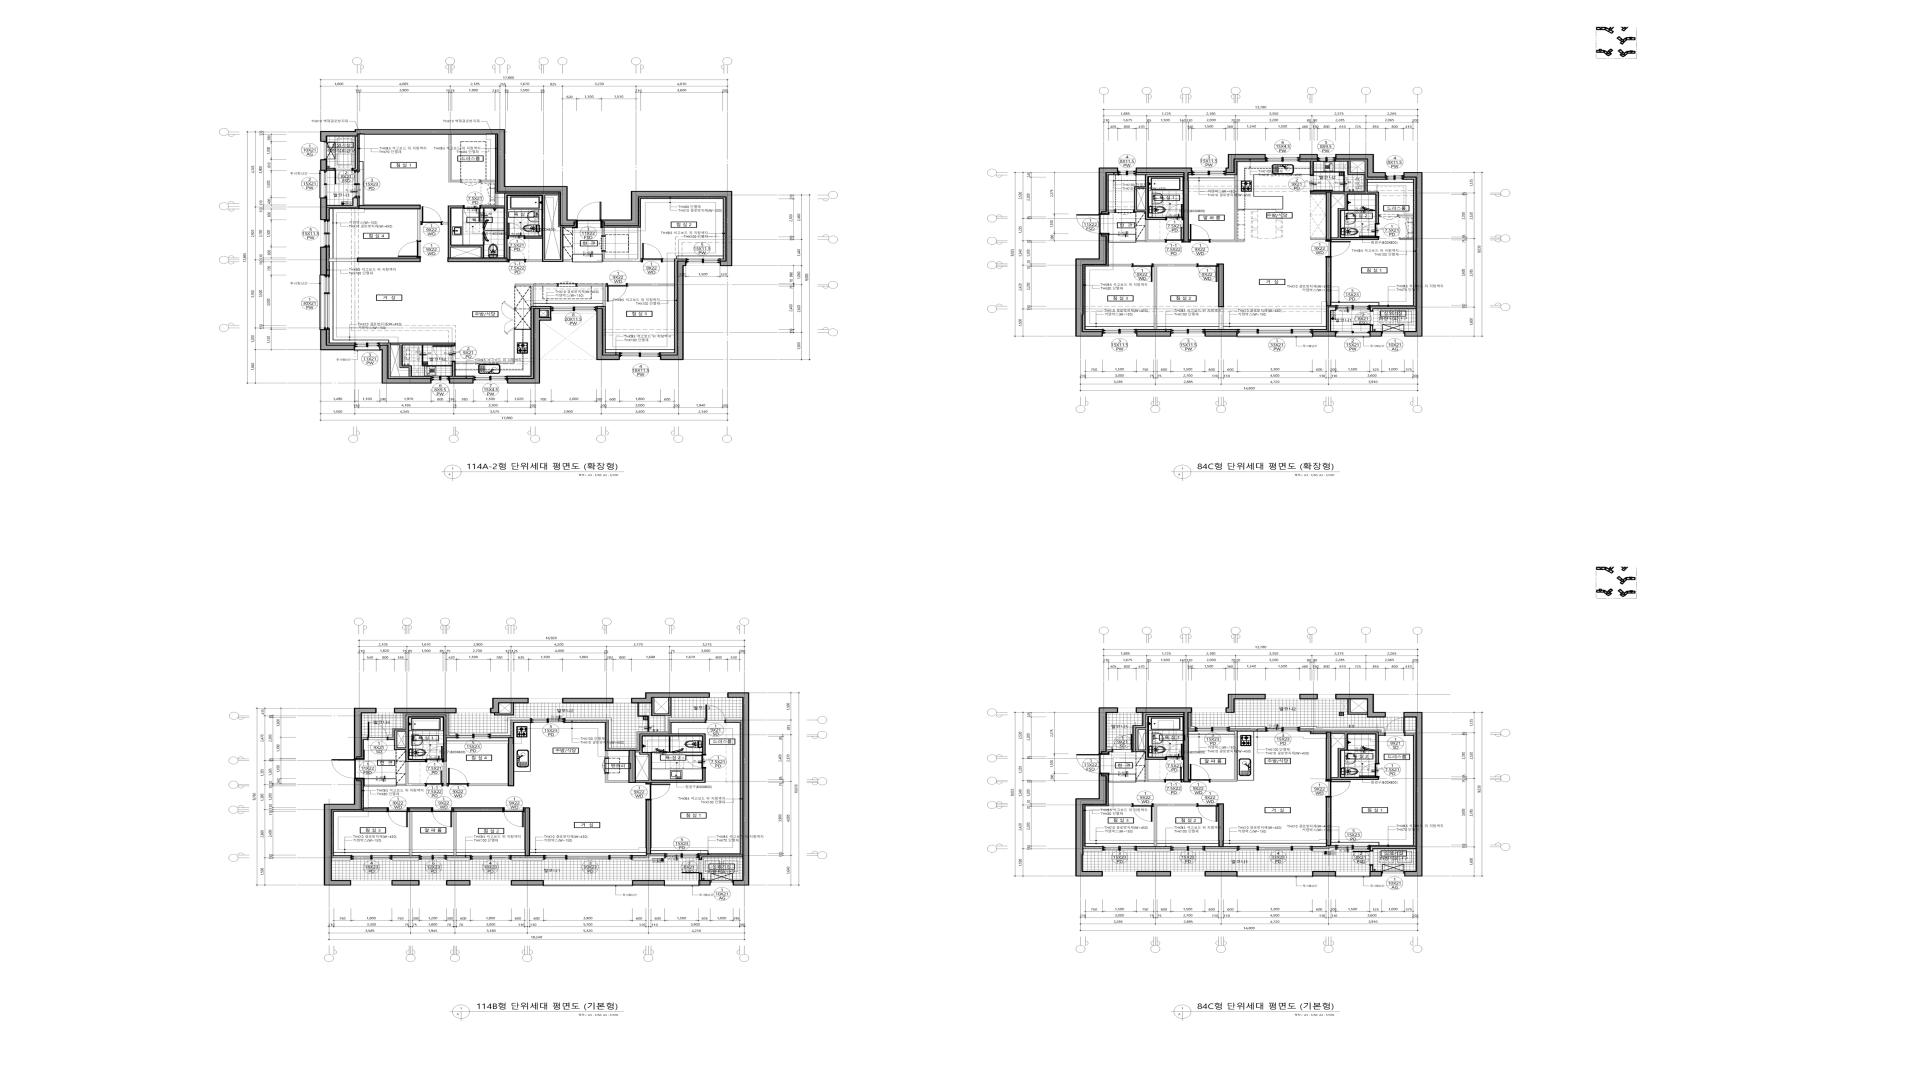door: (1076, 754, 1110, 774), (1076, 214, 1110, 234), (331, 759, 365, 779), (576, 202, 602, 228), (1325, 780, 1351, 798), (431, 807, 453, 828), (1326, 240, 1351, 258), (645, 783, 671, 800), (641, 243, 663, 263), (387, 807, 409, 827), (503, 807, 524, 827), (1132, 803, 1154, 822), (420, 206, 442, 225), (1132, 263, 1154, 282), (1197, 803, 1218, 822), (1112, 734, 1133, 753), (1189, 764, 1210, 783), (1197, 263, 1218, 282), (606, 283, 627, 302), (1189, 224, 1210, 243), (447, 768, 468, 787), (398, 241, 421, 258), (432, 346, 456, 362), (705, 705, 726, 723), (367, 722, 388, 740), (1310, 175, 1333, 191), (1385, 718, 1405, 736), (1353, 311, 1374, 326), (681, 859, 702, 874), (463, 205, 481, 222), (1165, 204, 1183, 221), (425, 771, 444, 787), (686, 754, 706, 769), (1353, 851, 1374, 865), (1359, 763, 1380, 777), (1359, 223, 1380, 237), (426, 746, 443, 763), (1165, 767, 1183, 783), (1165, 744, 1183, 760), (508, 247, 526, 263), (334, 168, 352, 184), (1165, 227, 1183, 243), (508, 223, 525, 239), (1379, 214, 1399, 220), (461, 180, 481, 186), (557, 281, 577, 287), (602, 758, 609, 773), (1115, 210, 1134, 215)
wall: (320, 129, 576, 226), (602, 191, 732, 266), (481, 193, 572, 262), (727, 692, 749, 886), (1136, 707, 1192, 782), (1136, 168, 1192, 243), (324, 779, 362, 886), (394, 715, 447, 786), (636, 734, 706, 783), (507, 308, 551, 384), (1075, 774, 1107, 877), (1075, 234, 1107, 337), (1134, 175, 1183, 242), (1136, 714, 1183, 782), (1404, 712, 1423, 877), (1404, 172, 1423, 337), (1332, 179, 1379, 240), (1154, 264, 1197, 329), (660, 261, 686, 360), (1331, 732, 1379, 780), (1210, 175, 1244, 242), (390, 343, 456, 377), (442, 206, 484, 257), (379, 345, 432, 384), (651, 698, 705, 732), (1154, 804, 1197, 846), (565, 718, 612, 749), (1210, 731, 1237, 782), (602, 228, 641, 262), (596, 308, 620, 360), (1335, 694, 1386, 718), (1335, 154, 1386, 178), (354, 708, 376, 759), (515, 284, 557, 306), (1099, 707, 1118, 754), (1099, 168, 1118, 214), (631, 692, 710, 703), (1226, 694, 1266, 713), (1226, 154, 1266, 173), (320, 329, 355, 350), (491, 718, 530, 736), (577, 284, 606, 306), (448, 135, 461, 182), (1300, 726, 1385, 733), (490, 698, 529, 713), (394, 708, 456, 713), (1348, 699, 1367, 715), (327, 198, 357, 208), (1326, 191, 1332, 240), (508, 737, 514, 786), (524, 807, 530, 856), (1326, 798, 1332, 846), (1326, 732, 1332, 780), (1326, 258, 1332, 306), (646, 801, 651, 854), (1218, 803, 1224, 847), (494, 703, 514, 716), (1218, 264, 1224, 307), (357, 258, 421, 262), (628, 751, 636, 783), (562, 698, 613, 703), (1347, 161, 1365, 175), (453, 807, 503, 812), (359, 205, 421, 209), (447, 258, 508, 262), (605, 773, 628, 783), (1136, 871, 1171, 877), (1136, 331, 1171, 337), (320, 247, 327, 276), (1205, 871, 1238, 877), (1205, 331, 1238, 337), (632, 880, 665, 886), (511, 880, 544, 886), (1328, 307, 1336, 331), (1370, 847, 1416, 851), (1370, 307, 1416, 311), (699, 855, 742, 859), (353, 137, 358, 171), (391, 880, 419, 886), (632, 856, 664, 861), (320, 198, 327, 220), (1312, 871, 1336, 877), (1312, 331, 1336, 337), (449, 378, 473, 384), (446, 880, 470, 886), (453, 812, 456, 856), (409, 812, 412, 856), (363, 807, 387, 812), (329, 258, 357, 262), (409, 807, 431, 812), (1229, 726, 1265, 729), (1137, 849, 1171, 852), (540, 308, 551, 317), (511, 858, 543, 861), (1205, 849, 1237, 852), (417, 209, 420, 241), (1299, 694, 1318, 699), (1299, 154, 1318, 159), (627, 284, 674, 286), (1313, 848, 1336, 852), (1219, 307, 1223, 329), (320, 159, 327, 171), (392, 858, 419, 861), (468, 784, 508, 786), (698, 880, 711, 886), (1370, 871, 1382, 877), (1370, 331, 1382, 337), (447, 858, 470, 861), (452, 362, 456, 377), (332, 858, 351, 861), (1310, 161, 1314, 175), (1084, 849, 1102, 852), (1310, 191, 1326, 194), (1109, 804, 1132, 806), (1109, 264, 1132, 266), (495, 194, 498, 206), (1405, 730, 1416, 733), (663, 259, 674, 262), (726, 718, 742, 720), (1310, 732, 1326, 734), (1310, 238, 1326, 240), (514, 784, 530, 786), (481, 180, 495, 182), (1400, 238, 1413, 240), (602, 228, 605, 236), (605, 751, 608, 758), (449, 733, 456, 736), (327, 168, 334, 171), (1370, 865, 1373, 871), (1109, 210, 1115, 213), (699, 874, 702, 880), (1107, 747, 1112, 750), (1370, 326, 1373, 331), (1399, 215, 1413, 216), (1191, 726, 1195, 729), (388, 735, 393, 737), (362, 735, 367, 737)
window: (1238, 329, 1312, 337), (319, 276, 330, 329), (543, 855, 632, 860), (544, 881, 632, 886), (1237, 846, 1313, 851), (1238, 872, 1312, 877), (620, 352, 660, 360), (551, 306, 596, 313), (686, 258, 720, 266), (1192, 168, 1226, 176), (321, 220, 330, 247), (473, 376, 507, 383), (1171, 329, 1205, 336), (1103, 329, 1136, 336), (1266, 155, 1299, 162), (319, 171, 327, 198), (352, 171, 360, 198), (355, 342, 379, 351), (351, 855, 392, 860), (470, 855, 511, 860), (1336, 331, 1370, 337), (664, 853, 699, 858), (1102, 846, 1137, 851), (1265, 727, 1300, 732), (530, 718, 565, 723), (456, 734, 491, 739), (1336, 872, 1370, 877), (1336, 305, 1370, 310), (1336, 845, 1370, 850), (1171, 846, 1205, 851), (1195, 727, 1229, 732), (1192, 708, 1226, 713), (457, 708, 490, 713), (529, 698, 562, 703), (665, 881, 698, 886), (1266, 694, 1299, 699), (470, 881, 511, 885), (351, 881, 391, 885), (1118, 168, 1136, 176), (419, 855, 447, 860), (1171, 872, 1205, 876), (1103, 872, 1136, 876), (431, 376, 449, 383), (1318, 155, 1335, 162), (1382, 871, 1404, 876), (1382, 331, 1404, 336), (711, 880, 733, 885), (420, 881, 446, 885), (321, 142, 327, 159), (613, 698, 631, 703), (1386, 175, 1404, 180), (1118, 708, 1136, 713), (710, 693, 727, 698), (1318, 694, 1335, 699), (377, 708, 394, 713), (1386, 713, 1404, 717)
